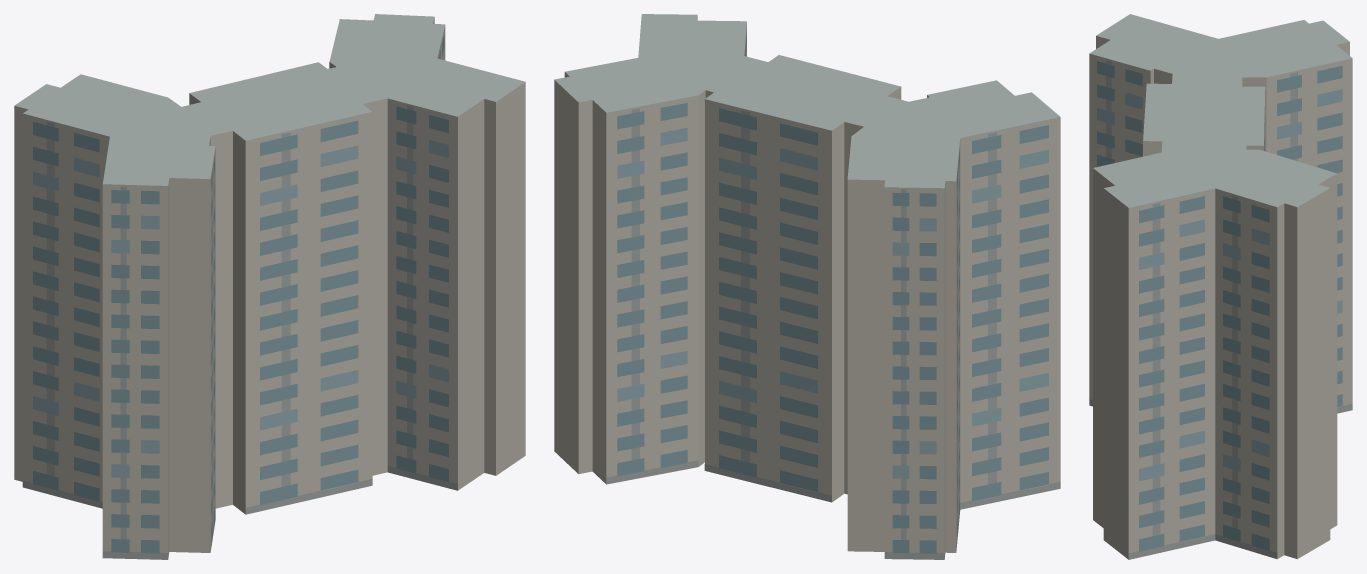
File: residential-9f71787e-6f3a-4132-8381-298fc48efe15.glb
3 views of the same model, side by side, from view 1: azimuth 30°, elevation 25°; view 2: azimuth 150°, elevation 25°; view 3: azimuth 270°, elevation 25° (orthographic). The views are drawn at different scales.
Visible parts, largest first — view 1: residential-9f71787e-6f3a-4132-8381-298fc48efe15.tmp; view 2: residential-9f71787e-6f3a-4132-8381-298fc48efe15.tmp; view 3: residential-9f71787e-6f3a-4132-8381-298fc48efe15.tmp.
Part boxes in pixels (x1,y1,x2,y2): residential-9f71787e-6f3a-4132-8381-298fc48efe15.tmp: (14, 14, 525, 559); residential-9f71787e-6f3a-4132-8381-298fc48efe15.tmp: (554, 14, 1060, 559); residential-9f71787e-6f3a-4132-8381-298fc48efe15.tmp: (1089, 14, 1352, 559).
Bounding box in the file's own units: 56.73 × 48 × 32.56.
